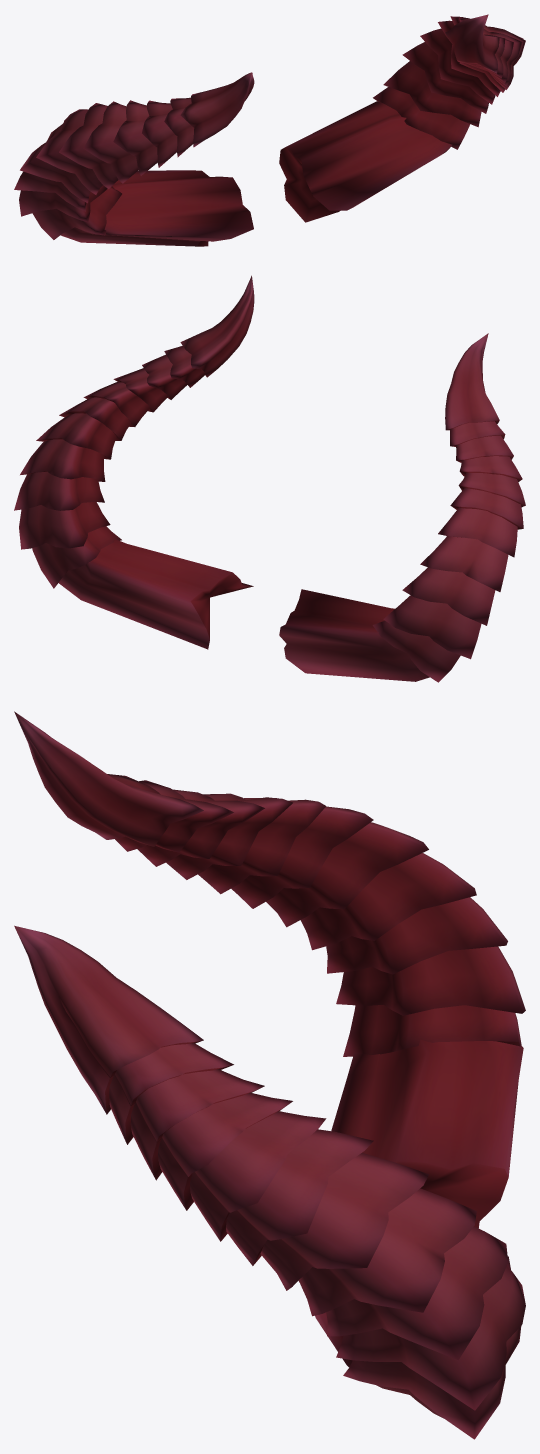
Rendered from horns.fbx.
3 views of the same model, one above another, from view 1: azimuth 30°, elevation 25°; view 2: azimuth 150°, elevation 25°; view 3: azimuth 270°, elevation 25° (orthographic). The views are drawn at different scales.
Visible parts, largest first — view 1: Horns; view 2: Horns; view 3: Horns.
Boxes of the visible parts, x1,y1,x2,y2 form: Horns: (14, 14, 525, 246); Horns: (14, 275, 525, 682); Horns: (14, 711, 525, 1439).
Bounding box in the file's own units: 47.12 × 25.69 × 23.42.
